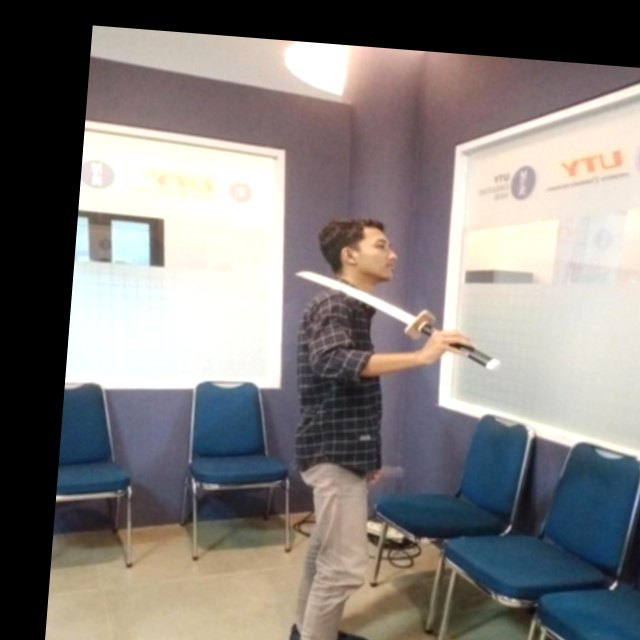Sharp-Object: (285, 262, 506, 375)
